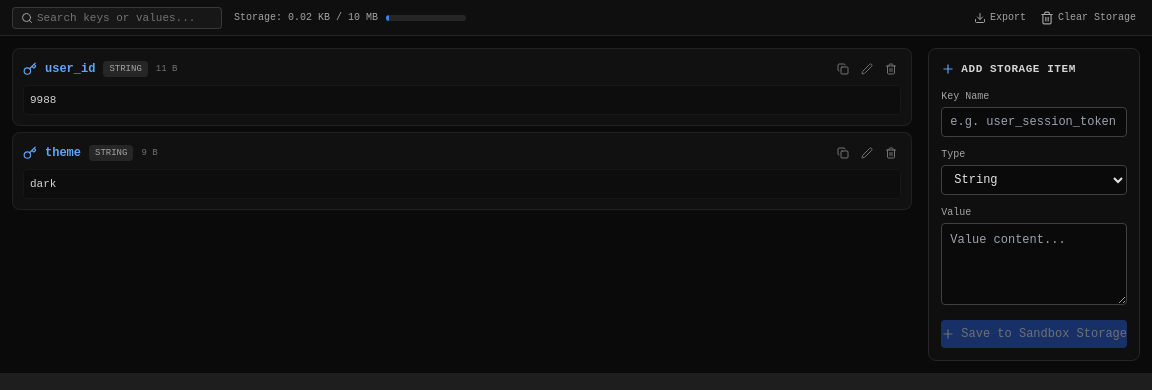
Scenario: Milestone 4: Multi-Lane Debugger & Storage Suite › 4. StorageExplorer Component › adds new key-value pair and synchronizes with store
In the field with placeholder "e.g. user_session_token": (1034, 122) [941,107,1127,137], type "auth_jwt"
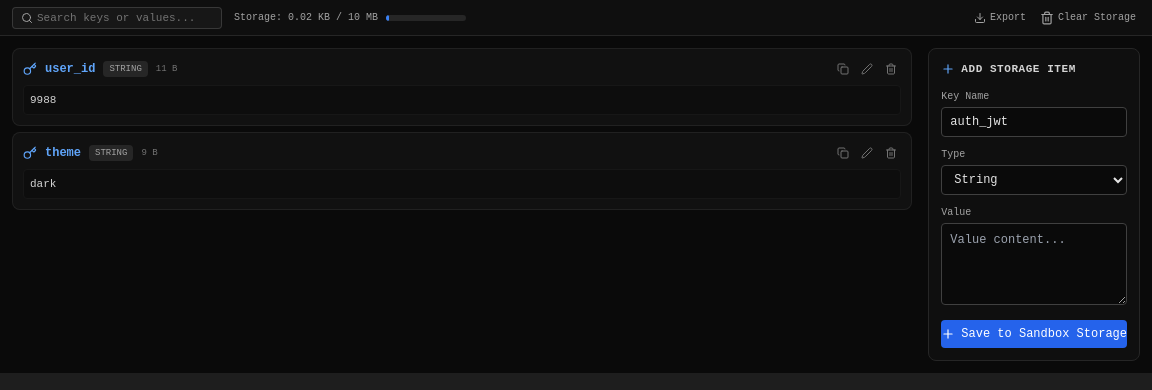
In the text box with placeholder "Value content...": (1034, 264) [941,223,1127,305], type "jwt_token_sample_123"
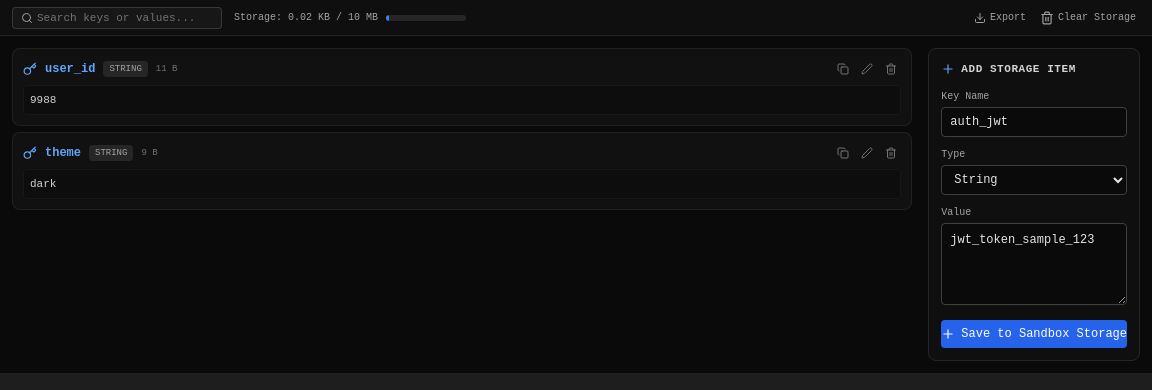
Click the button "Save to Sandbox Storage": (1034, 334) [941,320,1127,348]
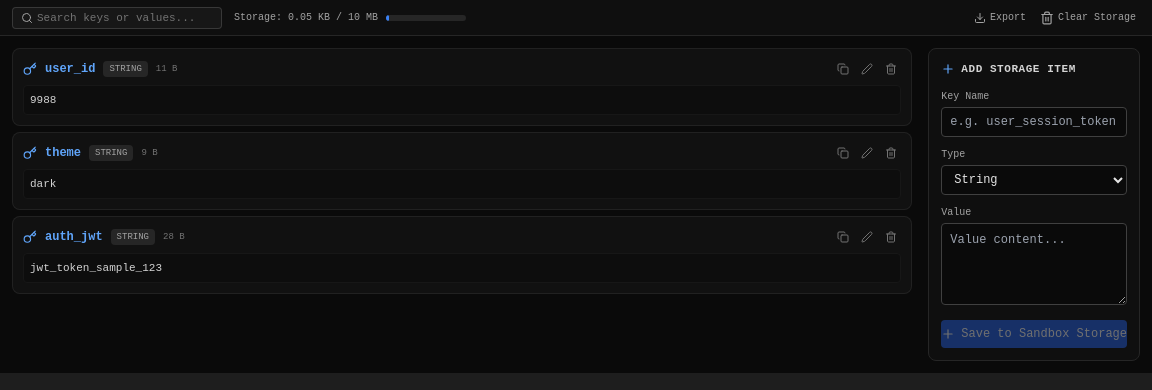
Check: the text "jwt_token_sample_123" is shown, box [23,253,901,283]
Check: the text "auth_jwt" is shown, box [45,229,103,245]
